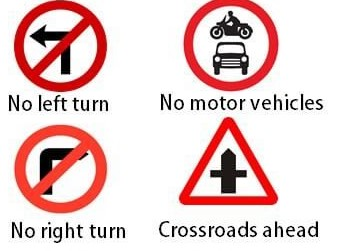Traffic signal: (179, 116, 279, 207), (12, 1, 110, 93), (181, 1, 279, 92), (11, 124, 108, 214)
